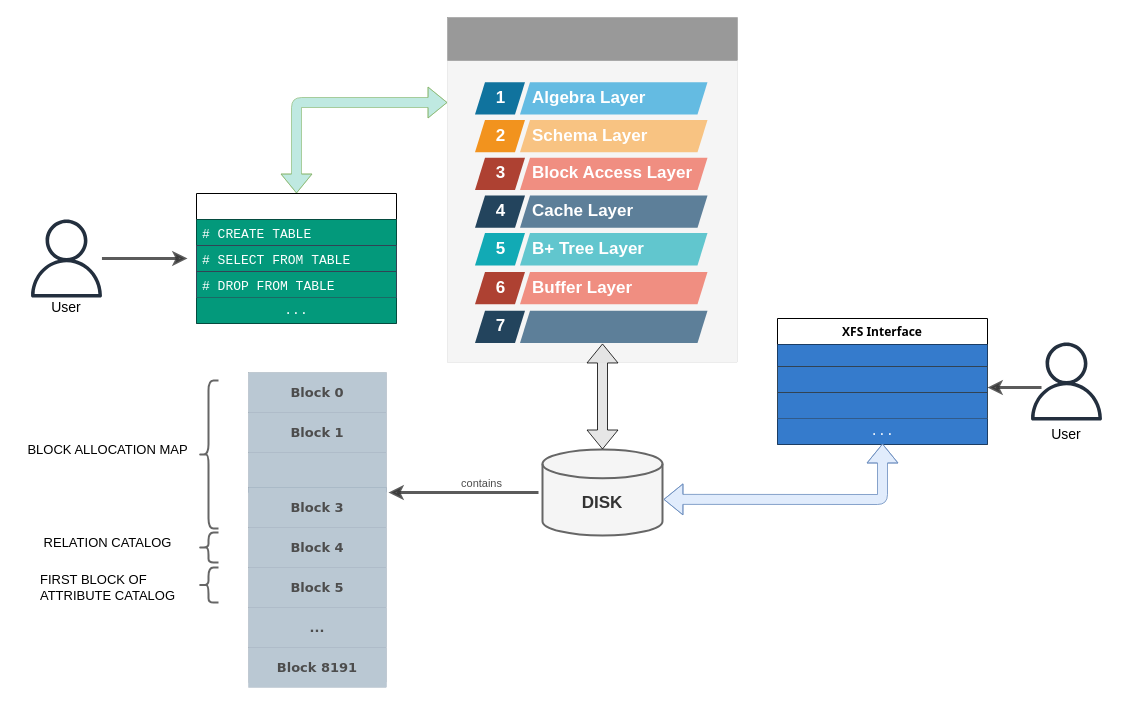
Image size: 1122x704. Some labels were removed from this diagram. The box of each missing label's shape, as (x1, y1, x2, y2) in pixels:
# EXPORT RELATION: (776, 392, 988, 418)
# FORMAT DISK: (777, 344, 987, 366)
# IMPORT FILENAME: (776, 366, 988, 392)
Block 2: (248, 452, 386, 492)
Front-End Interface: (196, 192, 396, 324)
Physical Layer: (520, 310, 707, 343)
Seven Layers NITCbase: (447, 17, 737, 60)
